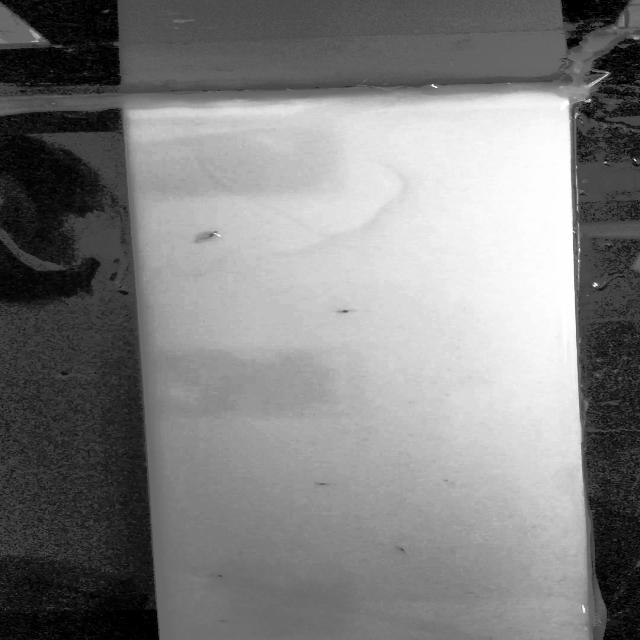shrimp: (175, 225, 248, 252), (321, 299, 388, 323), (196, 562, 243, 592), (299, 478, 357, 499), (384, 544, 438, 565), (208, 617, 248, 633)
